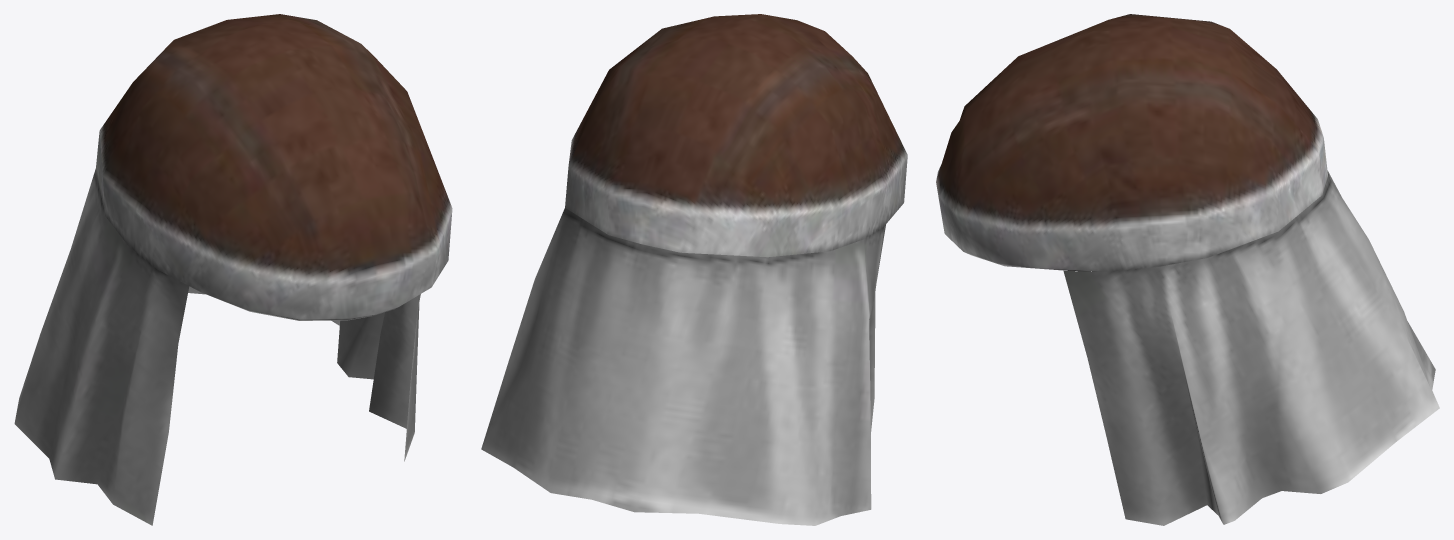
The model's file is helmet-mediumslingers.glb.
The picture shows the model from 3 angles, left to right: view 1: azimuth 30°, elevation 25°; view 2: azimuth 150°, elevation 25°; view 3: azimuth 270°, elevation 25°; orthographic projection. The views are drawn at different scales.
Bounding box in the file's own units: 0.2935 × 0.3497 × 0.3671.
1 material, 1 textured.
